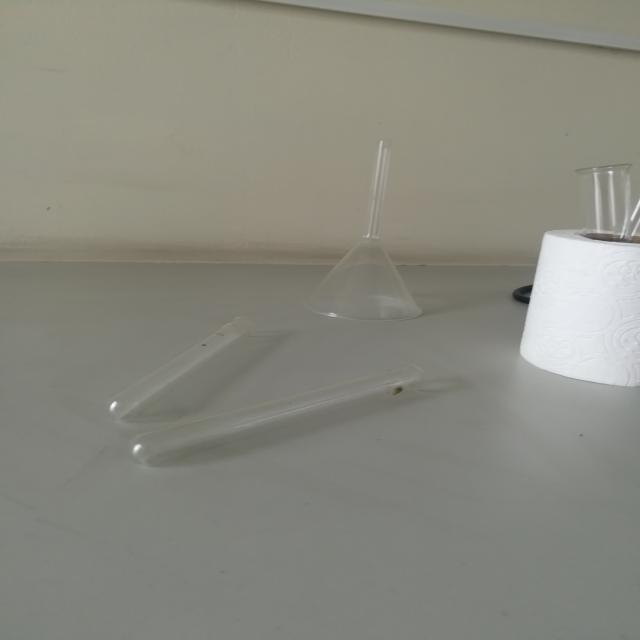Funnel: (282, 68, 463, 338)
Test_Tube: (108, 363, 489, 474), (84, 302, 276, 435)
